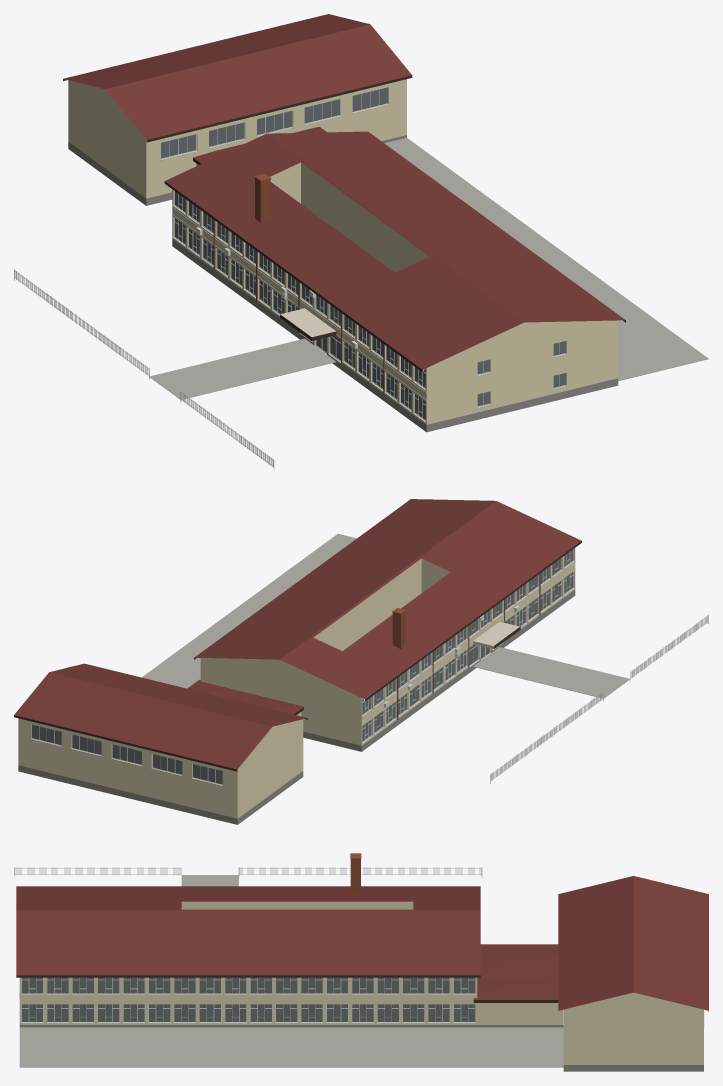
The model's file is school.glb.
3 renders of one model, top to bottom at view 1: azimuth 30°, elevation 25°; view 2: azimuth 150°, elevation 25°; view 3: azimuth 270°, elevation 25°, orthographic. The views are drawn at different scales.
Parts seen in each view (by area): view 1: School; view 2: School; view 3: School.
Boxes of the visible parts, <box> form: School: <box>14,14,708,470</box>; School: <box>14,499,708,824</box>; School: <box>14,853,708,1071</box>.
Bounding box in the file's own units: 53.35 × 13.07 × 80.98.
